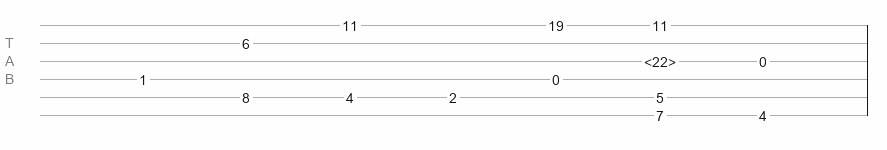0: (552, 72, 560, 82), (759, 54, 767, 64)
1: (139, 72, 147, 82)
11: (342, 18, 358, 28), (652, 18, 668, 28)
19: (548, 18, 564, 28)
2: (449, 90, 457, 100)
4: (346, 90, 354, 100), (759, 108, 767, 118)
5: (656, 90, 664, 100)
6: (242, 36, 250, 46)
7: (656, 108, 664, 118)
8: (242, 90, 250, 100)
harmonic: (644, 54, 676, 64)
